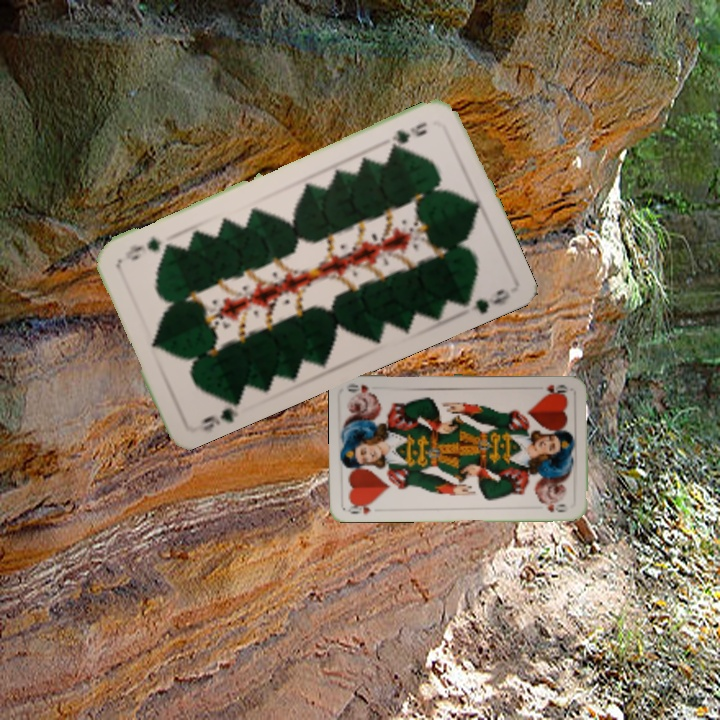G9: (196, 395, 243, 434), (386, 118, 430, 152)
HO: (344, 498, 378, 516), (542, 380, 571, 396)
